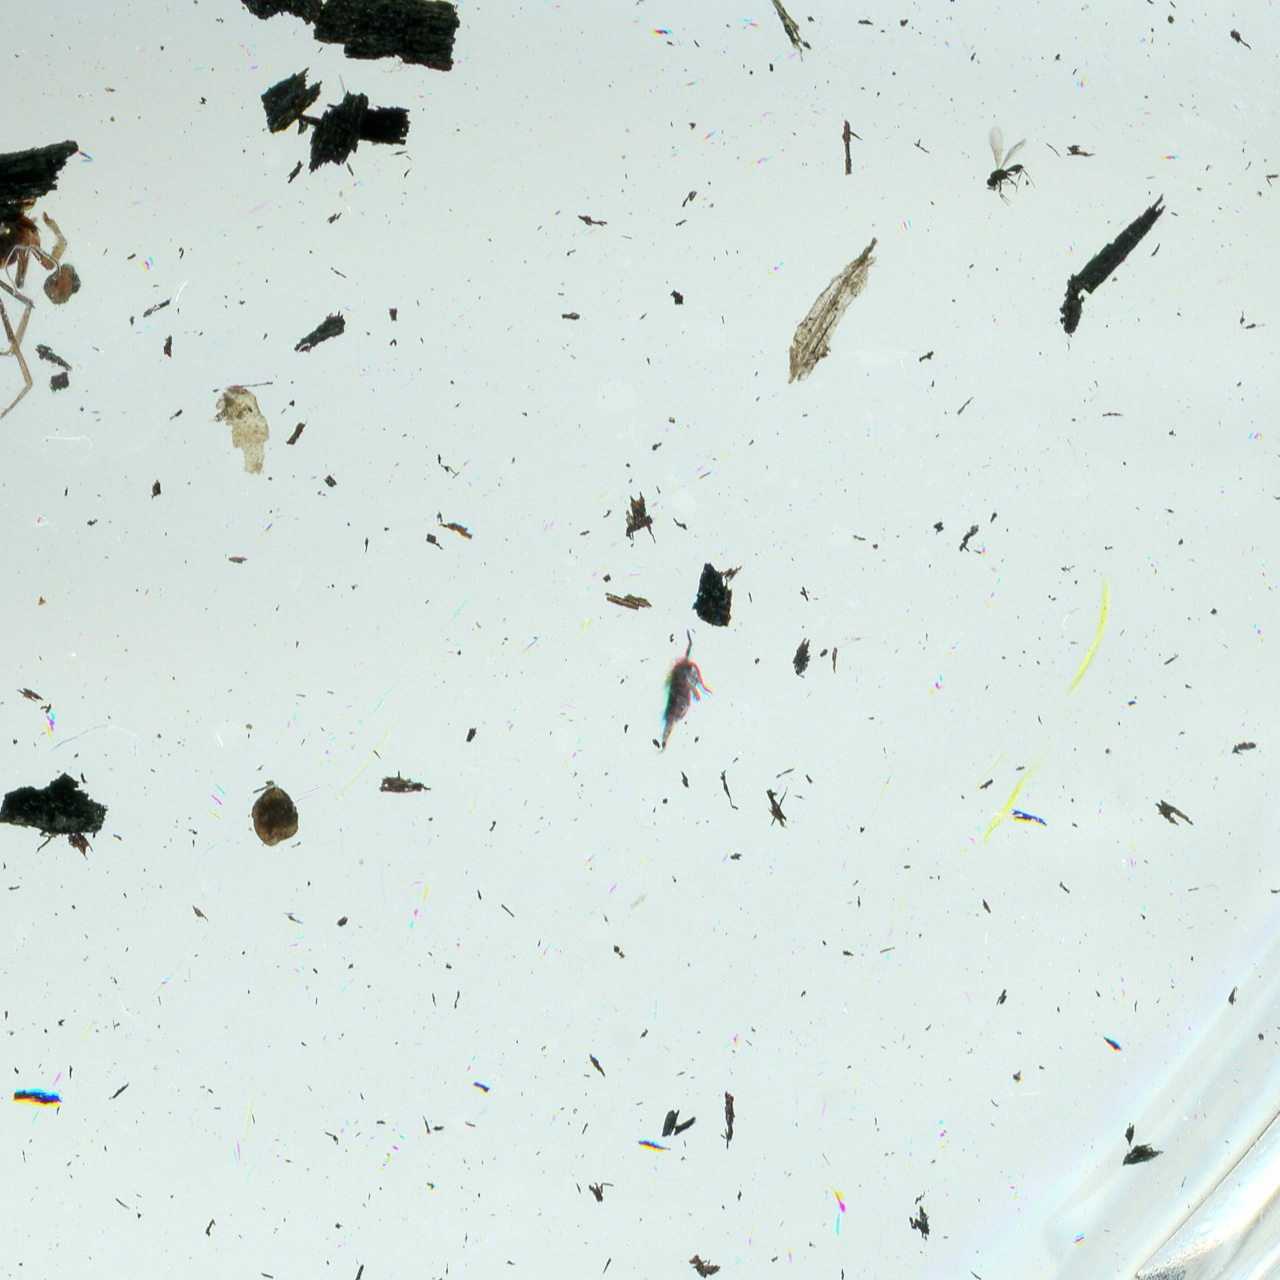arthropod: (0, 191, 69, 445), (647, 618, 727, 763), (985, 123, 1037, 209)
